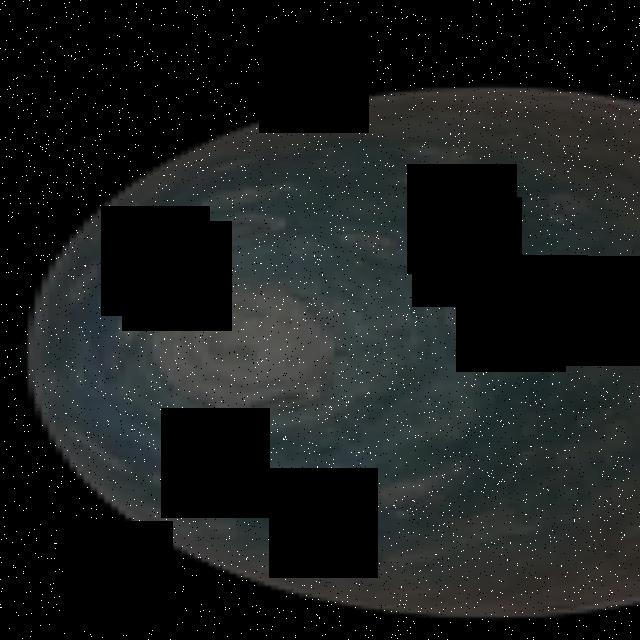Jupiter: (21, 83, 640, 616)
